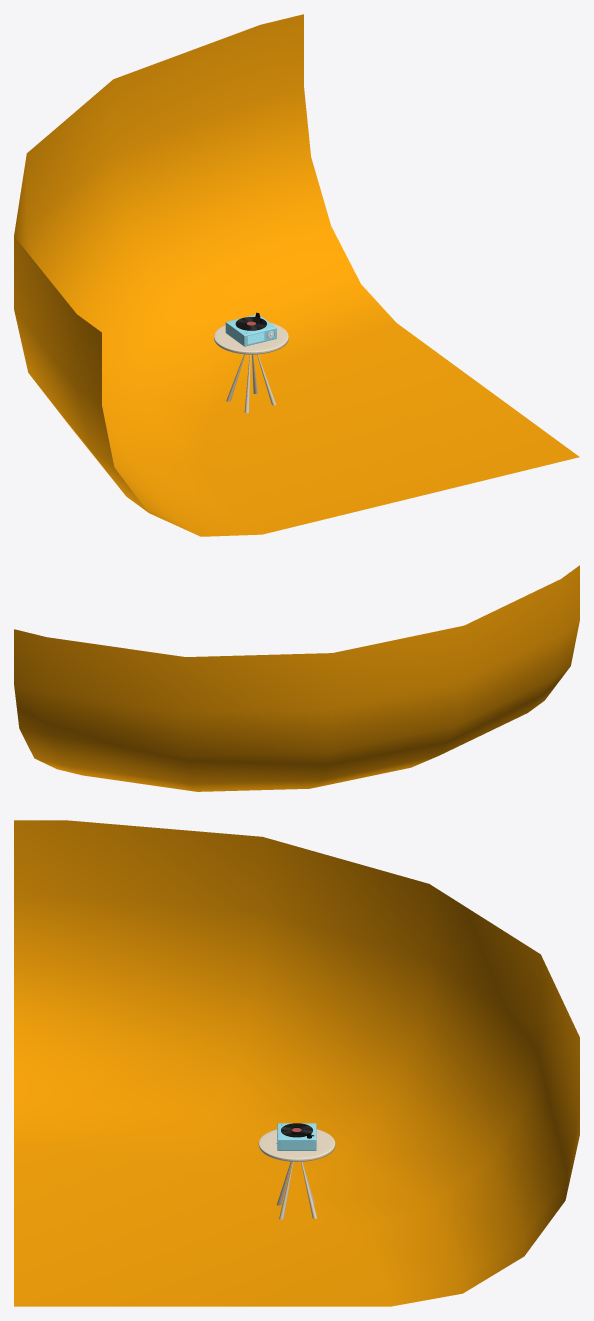
File: gramophone.glb
The picture shows the model from 3 angles, top to bottom: view 1: azimuth 30°, elevation 25°; view 2: azimuth 150°, elevation 25°; view 3: azimuth 270°, elevation 25°; orthographic projection. The views are drawn at different scales.
Parts seen in each view (by area): view 1: Plane, Cylinder.009, Cube, Cylinder.011; view 2: Plane; view 3: Plane, Cylinder.009, Cube, Cylinder.011.
Part boxes in pixels (x1,y1,x2,y2): Plane: [14, 14, 579, 536]; Cylinder.009: [214, 322, 288, 354]; Cube: [225, 314, 276, 346]; Cylinder.011: [226, 354, 275, 413]; Plane: [14, 565, 579, 791]; Plane: [14, 820, 579, 1306]; Cylinder.009: [258, 1129, 335, 1161]; Cube: [277, 1123, 316, 1150]; Cylinder.011: [276, 1161, 316, 1219].
Bounding box in the file's own units: 29.01 × 14.07 × 29.01.
10 materials, 2 textured.
